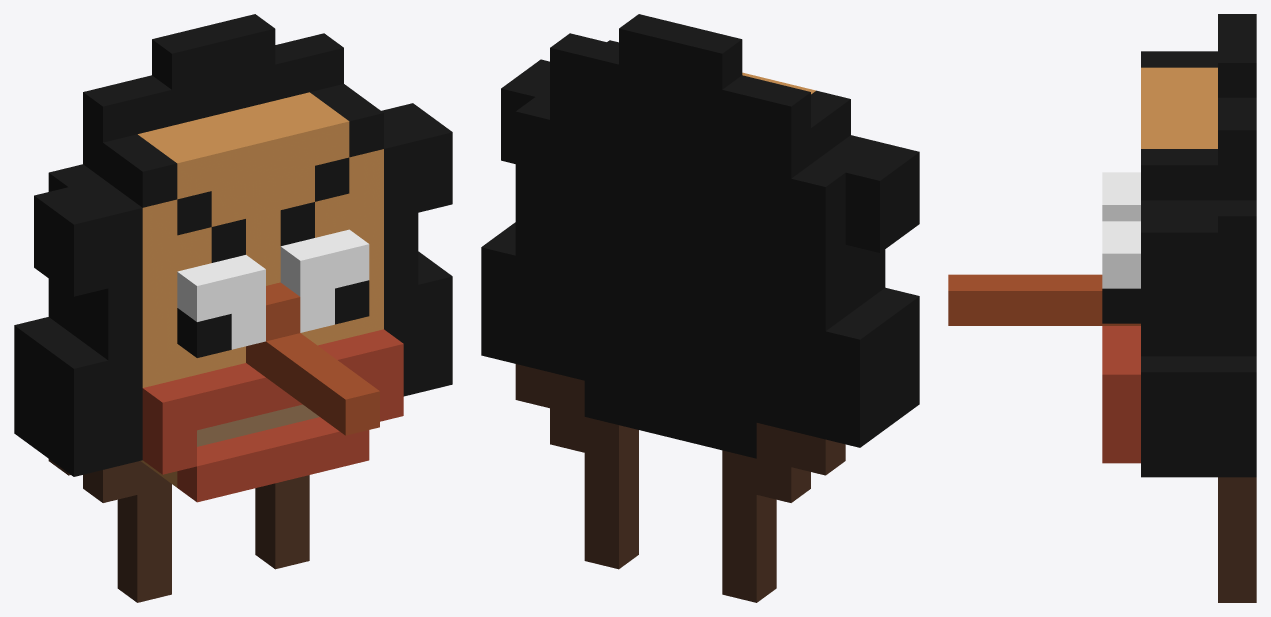
File: Technar-0.obj
3 views of the same model, side by side, from view 1: azimuth 30°, elevation 25°; view 2: azimuth 150°, elevation 25°; view 3: azimuth 270°, elevation 25° (orthographic). The views are drawn at different scales.
Bounding box in the file's own units: 1.1 × 1.5 × 0.8.
Materials: 1 (1 with a texture image).
